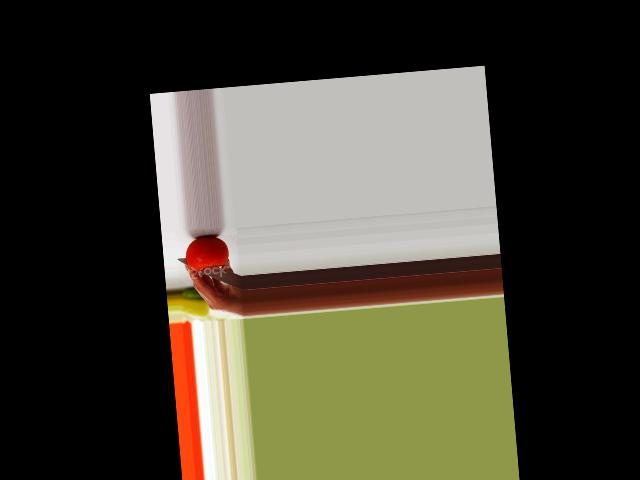tomato: (184, 234, 230, 271)
